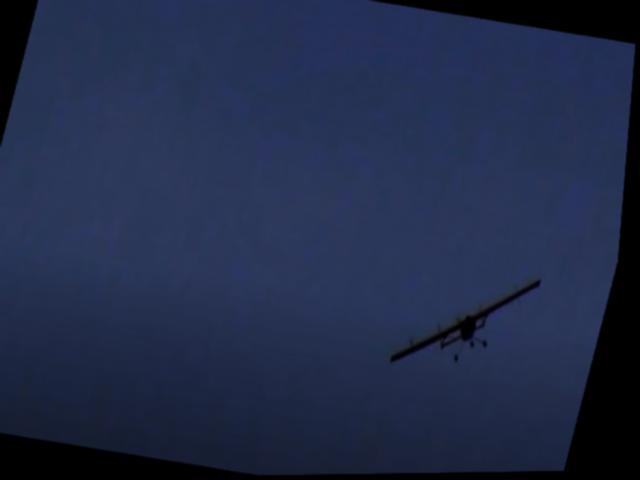iha: (394, 258, 549, 386)
